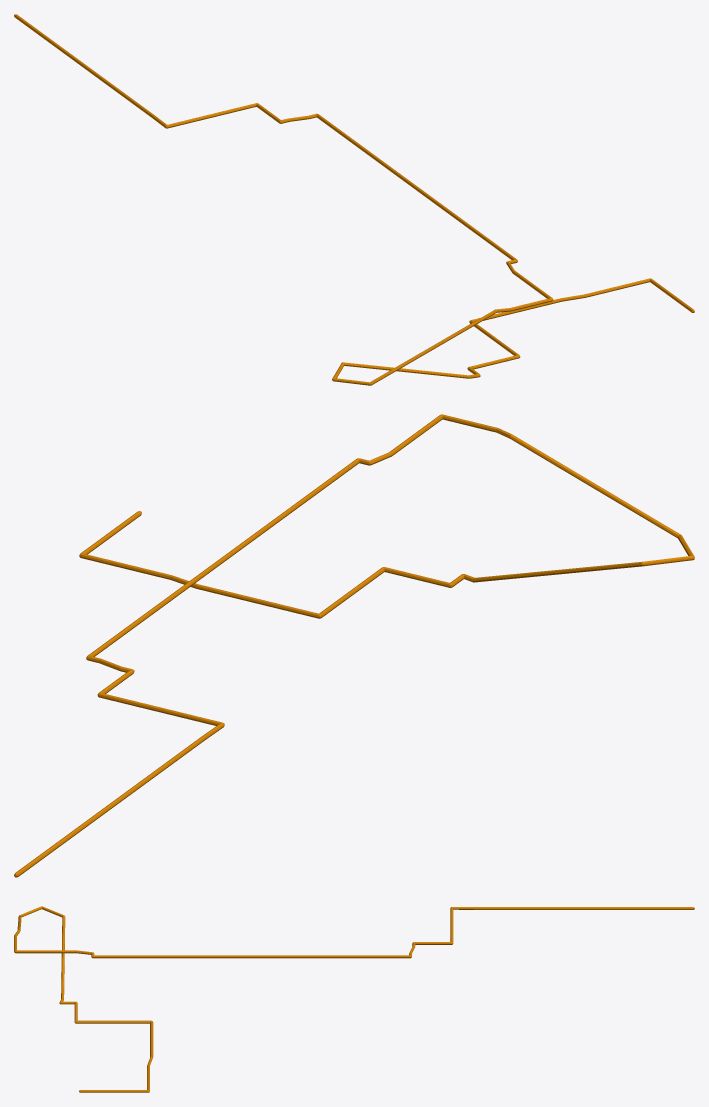
The picture shows the model from 3 angles, top to bottom: view 1: azimuth 30°, elevation 25°; view 2: azimuth 150°, elevation 25°; view 3: azimuth 270°, elevation 25°; orthographic projection. The views are drawn at different scales.
Bounding box in the file's own units: 2356 × 520 × 4501.
